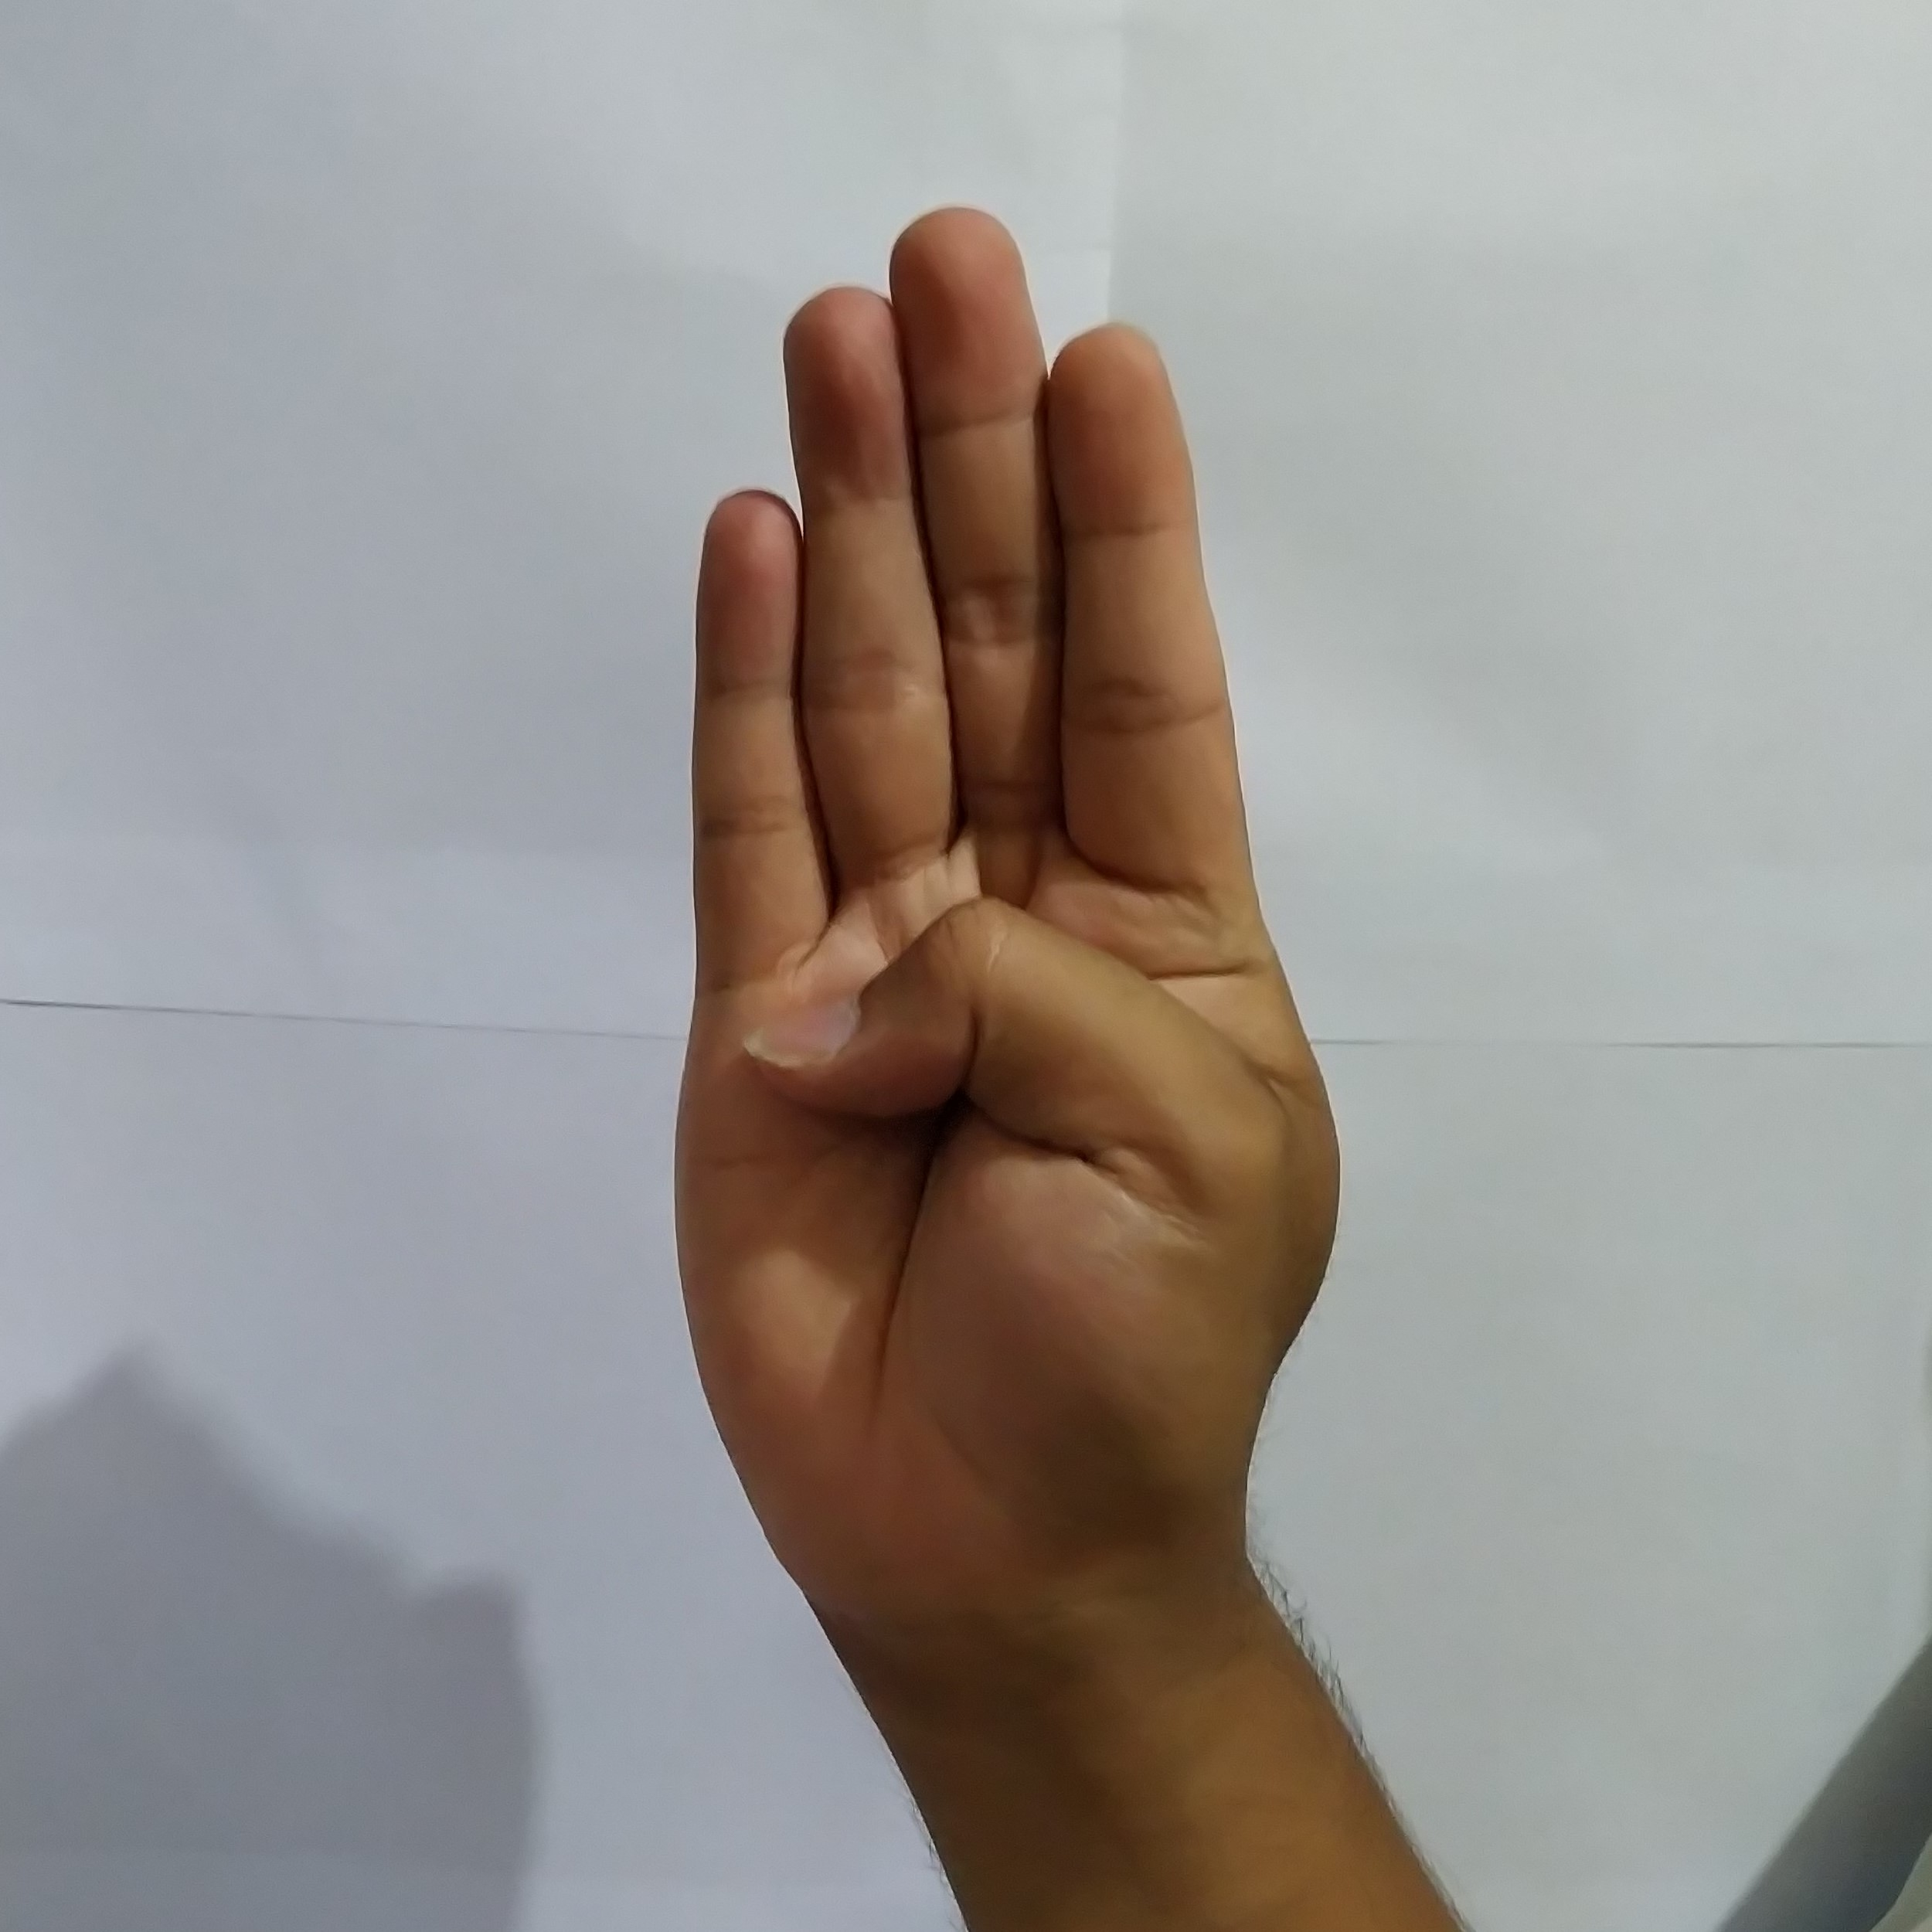B: (646, 184, 1362, 1608)
